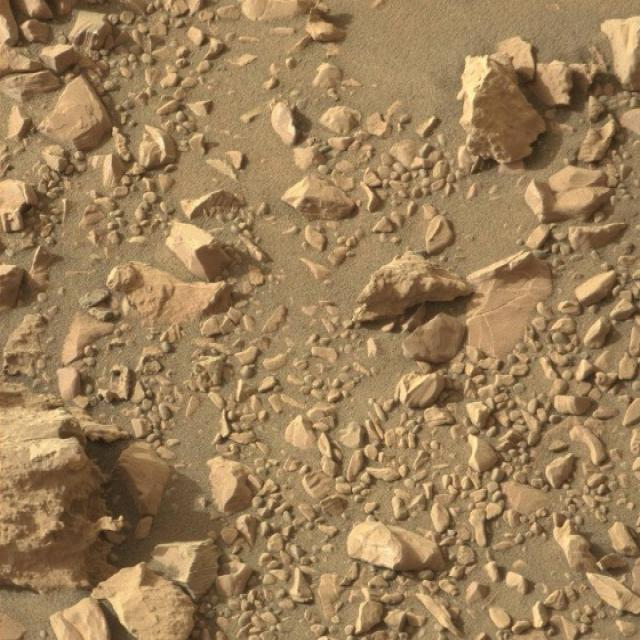mars-rocks: (459, 55, 547, 163), (354, 252, 473, 322), (91, 565, 195, 640), (39, 75, 112, 150), (347, 521, 446, 573), (148, 542, 220, 601), (165, 222, 230, 282)
